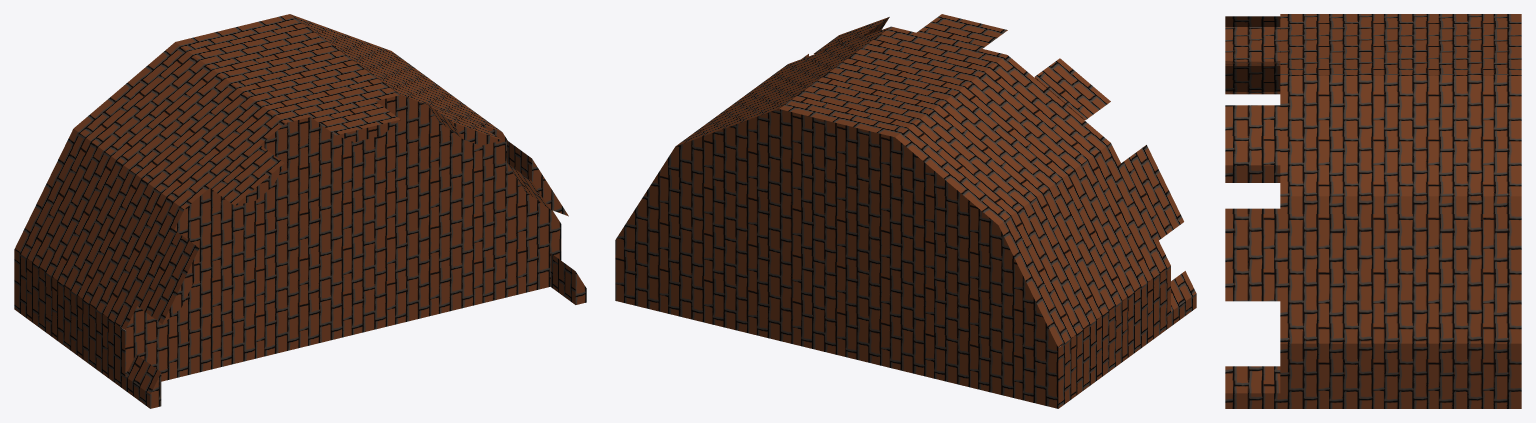
The model's file is bigcastle_wall.obj.
3 views of the same model, side by side, from view 1: azimuth 30°, elevation 25°; view 2: azimuth 150°, elevation 25°; view 3: azimuth 270°, elevation 25° (orthographic). The views are drawn at different scales.
Visible parts, largest first — view 1: mat0model0surf23, mat0model0surf32, mat0model0surf30, mat0model0surf18, mat0model0surf41, mat0model0surf12, mat0model0surf37, mat0model0surf29, mat0model0surf4, mat0model0surf39, mat0model0surf35, mat0model0surf8 (+3 smaller); view 2: mat0model0surf31, mat0model0surf32, mat0model0surf30, mat0model0surf18, mat0model0surf41, mat0model0surf12, mat0model0surf37, mat0model0surf29, mat0model0surf39, mat0model0surf17; view 3: mat0model0surf10, mat0model0surf12, mat0model0surf0, mat0model0surf18, mat0model0surf9, mat0model0surf17, mat0model0surf1, mat0model0surf34, mat0model0surf38, mat0model0surf24.
Boxes of the visible parts, x1,y1,x2,y2 form: mat0model0surf23: (125, 95, 561, 381); mat0model0surf32: (14, 129, 183, 329); mat0model0surf30: (73, 42, 285, 209); mat0model0surf18: (176, 14, 400, 135); mat0model0surf41: (14, 250, 150, 408); mat0model0surf12: (290, 14, 501, 131); mat0model0surf37: (137, 230, 199, 323); mat0model0surf29: (209, 144, 284, 205); mat0model0surf4: (550, 253, 575, 304); mat0model0surf39: (125, 354, 160, 394); mat0model0surf35: (162, 249, 199, 323); mat0model0surf8: (532, 159, 568, 216); mat0model0surf31: (615, 109, 1058, 408); mat0model0surf32: (998, 143, 1170, 347); mat0model0surf30: (895, 55, 1110, 224); mat0model0surf18: (779, 14, 1007, 137); mat0model0surf41: (1058, 266, 1196, 408); mat0model0surf12: (676, 26, 890, 145); mat0model0surf37: (1121, 145, 1183, 240); mat0model0surf29: (1035, 58, 1110, 119); mat0model0surf39: (1171, 271, 1196, 311); mat0model0surf17: (814, 17, 888, 53); mat0model0surf10: (1280, 196, 1521, 343); mat0model0surf12: (1280, 75, 1521, 196); mat0model0surf0: (1225, 343, 1521, 408); mat0model0surf18: (1225, 14, 1521, 74); mat0model0surf9: (1225, 208, 1280, 301); mat0model0surf17: (1225, 105, 1280, 165); mat0model0surf1: (1225, 366, 1280, 393); mat0model0surf34: (1225, 66, 1280, 91); mat0model0surf38: (1225, 165, 1280, 182); mat0model0surf24: (1225, 16, 1280, 26).
Bounding box in the file's own units: 400 × 200 × 216.
